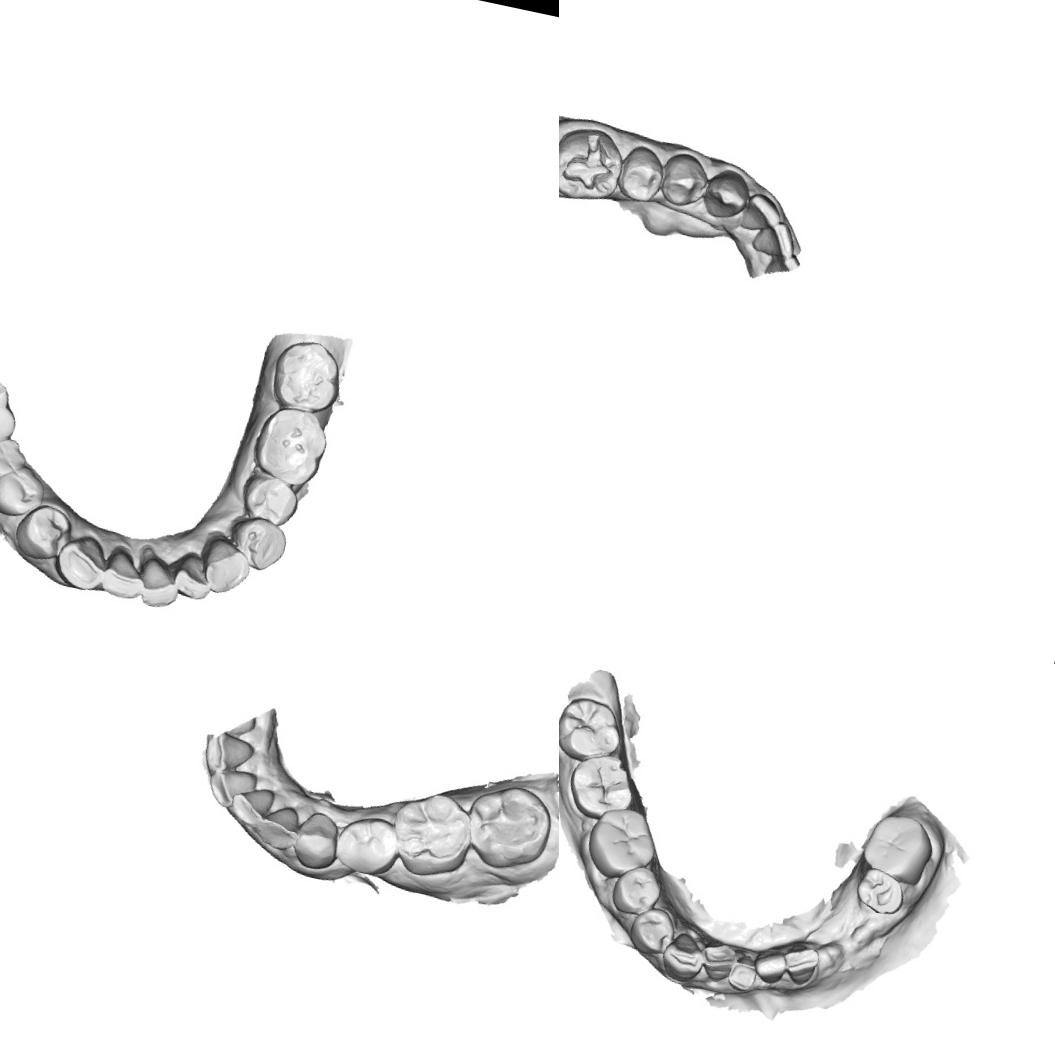canine: (49, 530, 114, 596), (194, 532, 257, 600), (698, 162, 756, 223), (657, 927, 708, 986), (253, 801, 302, 852)
incisor: (196, 727, 258, 781), (98, 544, 154, 603), (136, 556, 186, 614), (203, 763, 261, 813), (225, 780, 278, 831), (170, 550, 216, 604), (748, 216, 801, 262), (738, 190, 787, 236), (778, 940, 822, 989), (696, 939, 739, 986), (749, 944, 791, 988), (724, 951, 762, 995)
inlay: (559, 127, 622, 197)
molar: (458, 777, 559, 881), (384, 785, 480, 884), (251, 401, 334, 490), (266, 333, 351, 418), (856, 806, 940, 890), (560, 745, 645, 827), (580, 802, 661, 887), (559, 691, 630, 770), (0, 367, 26, 459), (0, 429, 30, 483)
premolar: (330, 809, 405, 881), (606, 858, 669, 923), (238, 470, 306, 530), (10, 501, 72, 566), (225, 511, 290, 572), (614, 140, 670, 208), (656, 148, 714, 213), (288, 808, 345, 873), (850, 863, 910, 920), (624, 901, 678, 959), (0, 459, 47, 524)
